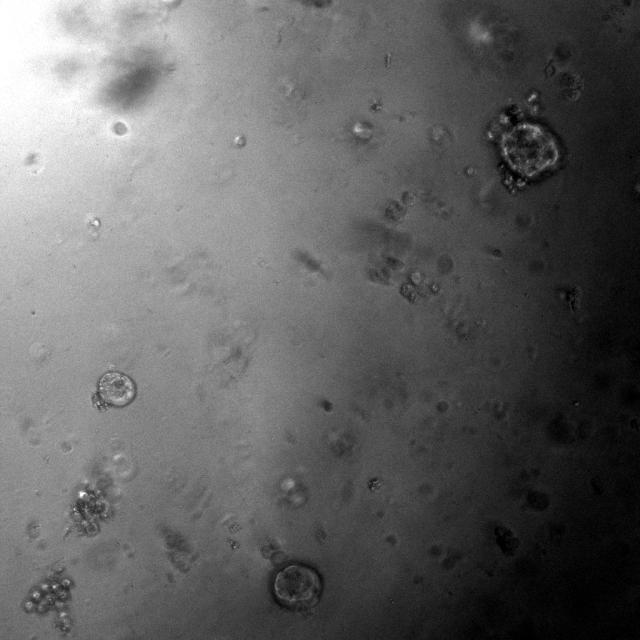organoid: (488, 90, 563, 192), (261, 539, 323, 611), (22, 563, 74, 633), (70, 483, 111, 536), (92, 371, 136, 410), (401, 271, 441, 302), (369, 256, 404, 283), (494, 525, 519, 555), (561, 72, 583, 101), (526, 490, 549, 511), (385, 200, 406, 222), (438, 254, 453, 274), (402, 191, 419, 206), (111, 121, 128, 136), (368, 477, 384, 492), (436, 401, 448, 413), (322, 400, 332, 412)
